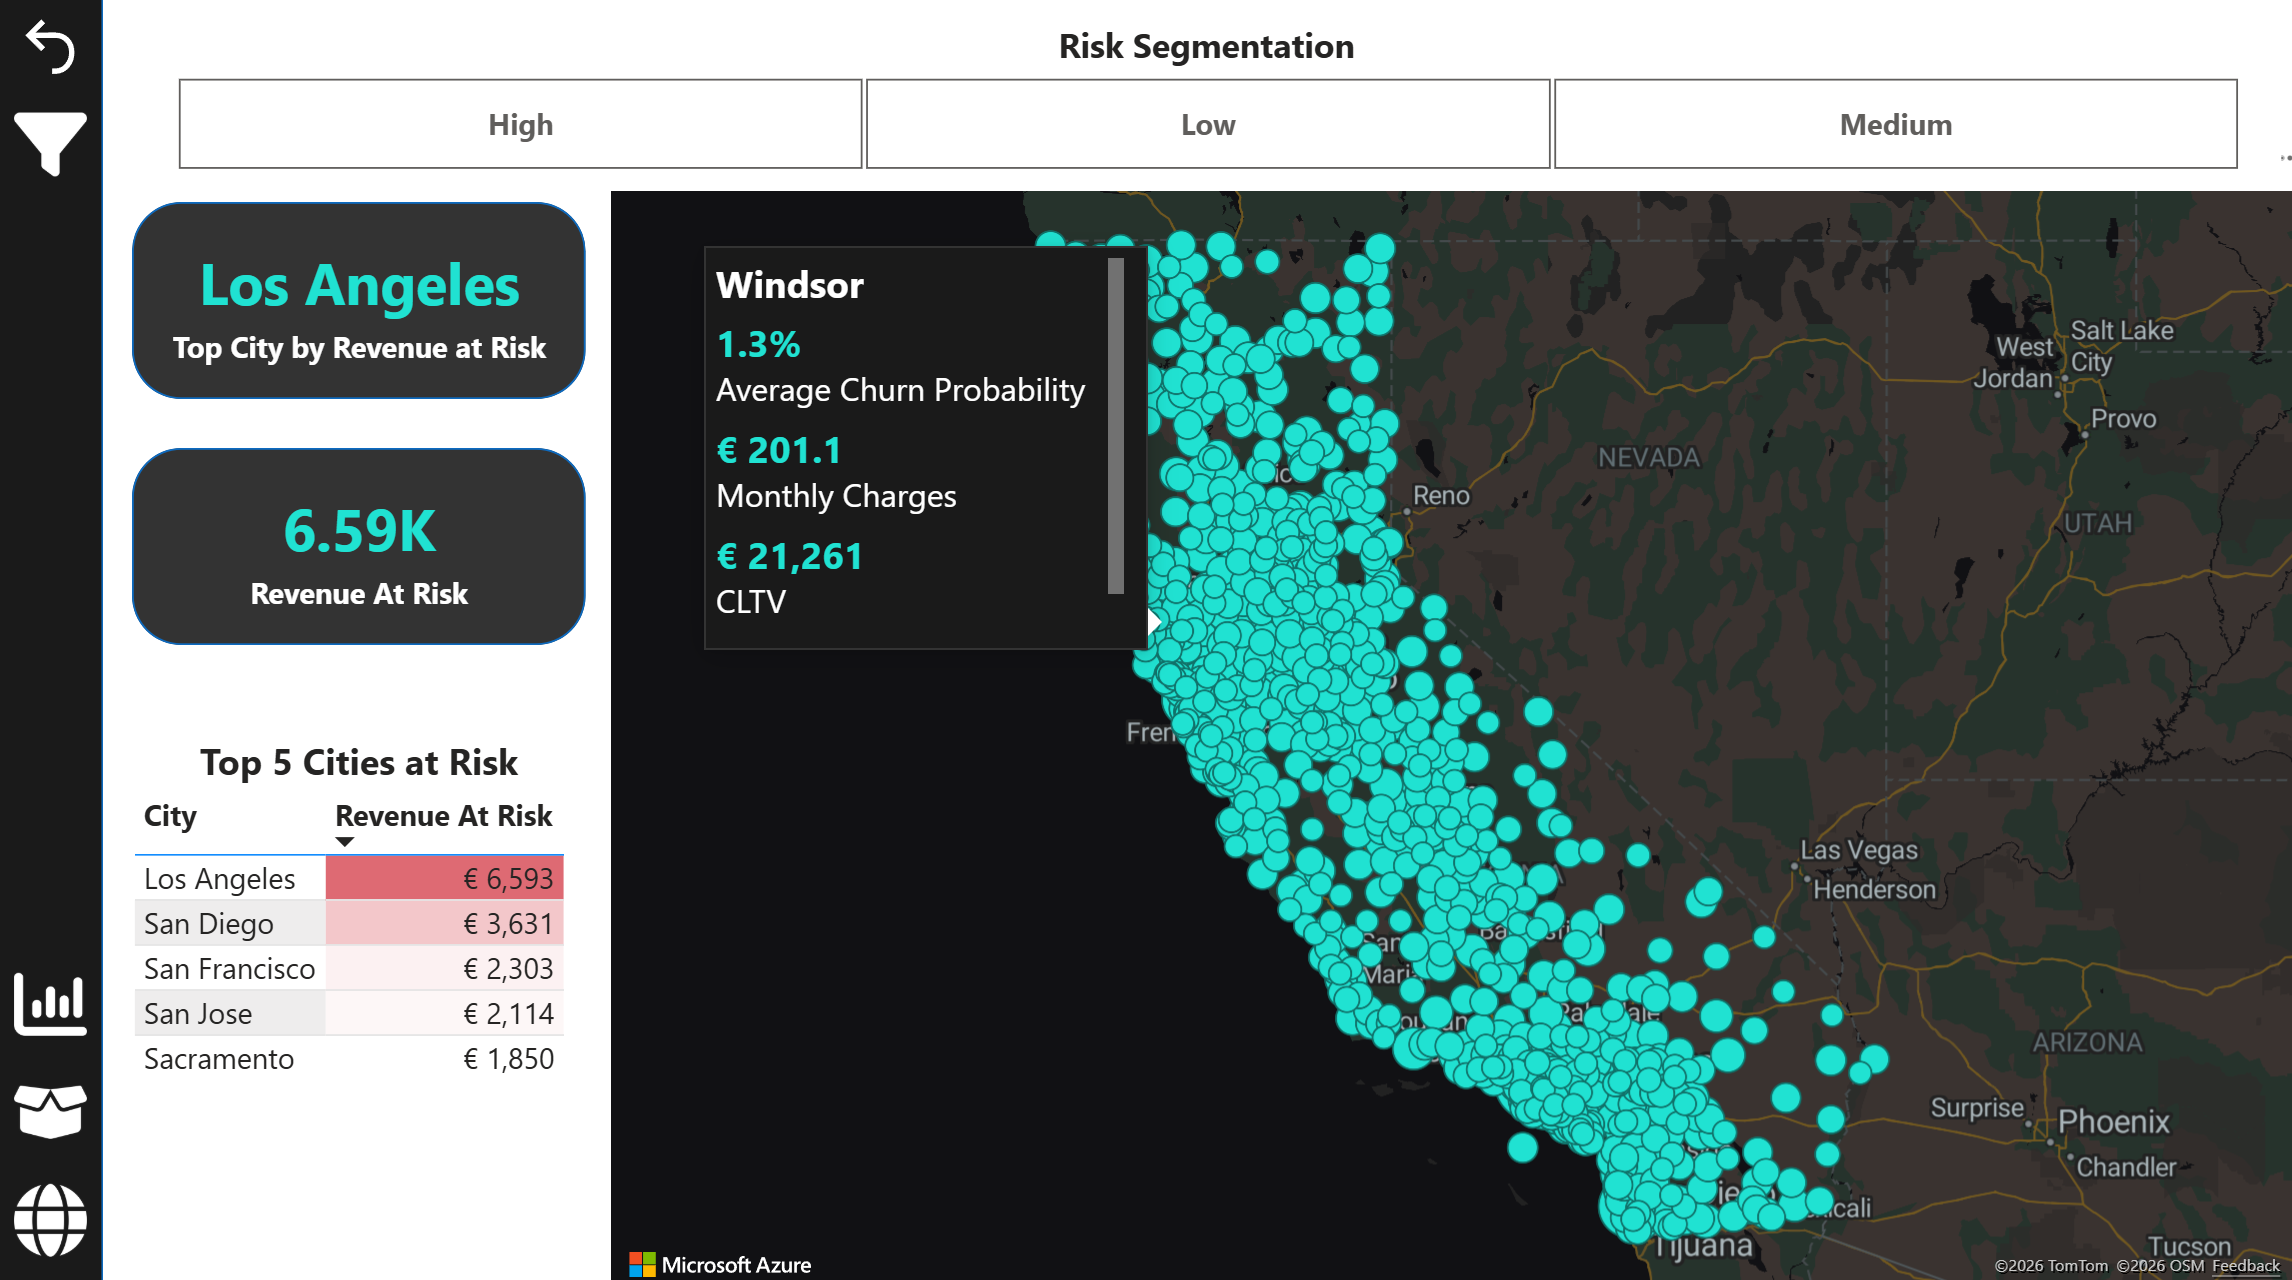

The dashboard page shown, as its layout file describes it:
{"tool":"powerbi","page":{"name":"Map","canvas":[1280,720],"ordinal":2},"visuals":[{"type":"azureMap","fields":{"Category":["churn_project customers.city"],"Y":["Avg(churn_project customers.latitude)"],"X":["Avg(churn_project customers.longitude)"],"Size":["Sum(churn_project predictions.estimated_revenue_at_risk)"]},"box":[337.5,102.8,946.5,616.9],"z":0},{"type":"shape","box":[76.5,114.7,251.8,109.4],"z":0,"group":"g2"},{"type":"shape","box":[76.5,250.5,251.8,109.4],"z":0,"group":"g1"},{"type":"shape","box":[0,0,60.6,719.8],"z":1000},{"type":"card","fields":{"Values":["Measure Table.Top City by Revenue at Risk"]},"box":[85.7,126.6,234.6,87],"z":1000,"group":"g2"},{"type":"card","fields":{"Values":["Measure Table.Top City Revenue at Risk Value"]},"box":[114.7,262.4,176.6,87],"z":1000,"group":"g1"},{"type":"actionButton","box":[10.8,8.1,49.9,40.5],"z":2000},{"type":"image","box":[10.8,62,40.5,40.5],"z":3000},{"type":"group","id":"g1","title":"Group 1","box":[76.5,250.5,251.8,109.4],"z":4000},{"type":"group","id":"g2","title":"Group 2","box":[76.5,114.7,251.8,109.4],"z":5000},{"type":"tableEx","title":"Top 5 Cities at Risk","fields":{"Values":["churn_project customers.city","Measure Table.Revenue At Risk"]},"box":[72.5,411.3,261,205.6],"z":6000},{"type":"slicer","title":"Risk Segmentation","fields":{"Values":["churn_project predictions.risk_segment"]},"box":[76.5,14.5,1193,88.3],"z":7000},{"type":"image","box":[11.3,536.3,40.5,47],"z":8000},{"type":"image","box":[11.3,657.8,40.5,42.1],"z":9000},{"type":"image","box":[11.3,597.9,40.5,42.1],"z":10000}]}

Visuals, with their boxes on the page's 1280x720 design canvas (x1, y1, x2, y2). These are canvas units, not pixel positions in the 2292x1280 screenshot, which may show the page scaled, cropped or inside an application window:
azureMap - churn_project customers.city x Avg(churn_project customers.latitude): crop(338, 103, 1284, 720)
shape: crop(76, 115, 328, 224)
shape: crop(76, 250, 328, 360)
shape: crop(0, 0, 61, 720)
card - Measure Table.Top City by Revenue at Risk: crop(86, 127, 320, 214)
card - Measure Table.Top City Revenue at Risk Value: crop(115, 262, 291, 349)
actionButton: crop(11, 8, 61, 49)
image: crop(11, 62, 51, 102)
"Group 1" group: crop(76, 250, 328, 360)
"Group 2" group: crop(76, 115, 328, 224)
"Top 5 Cities at Risk" tableEx: crop(72, 411, 334, 617)
"Risk Segmentation" slicer: crop(76, 14, 1270, 103)
image: crop(11, 536, 52, 583)
image: crop(11, 658, 52, 700)
image: crop(11, 598, 52, 640)
